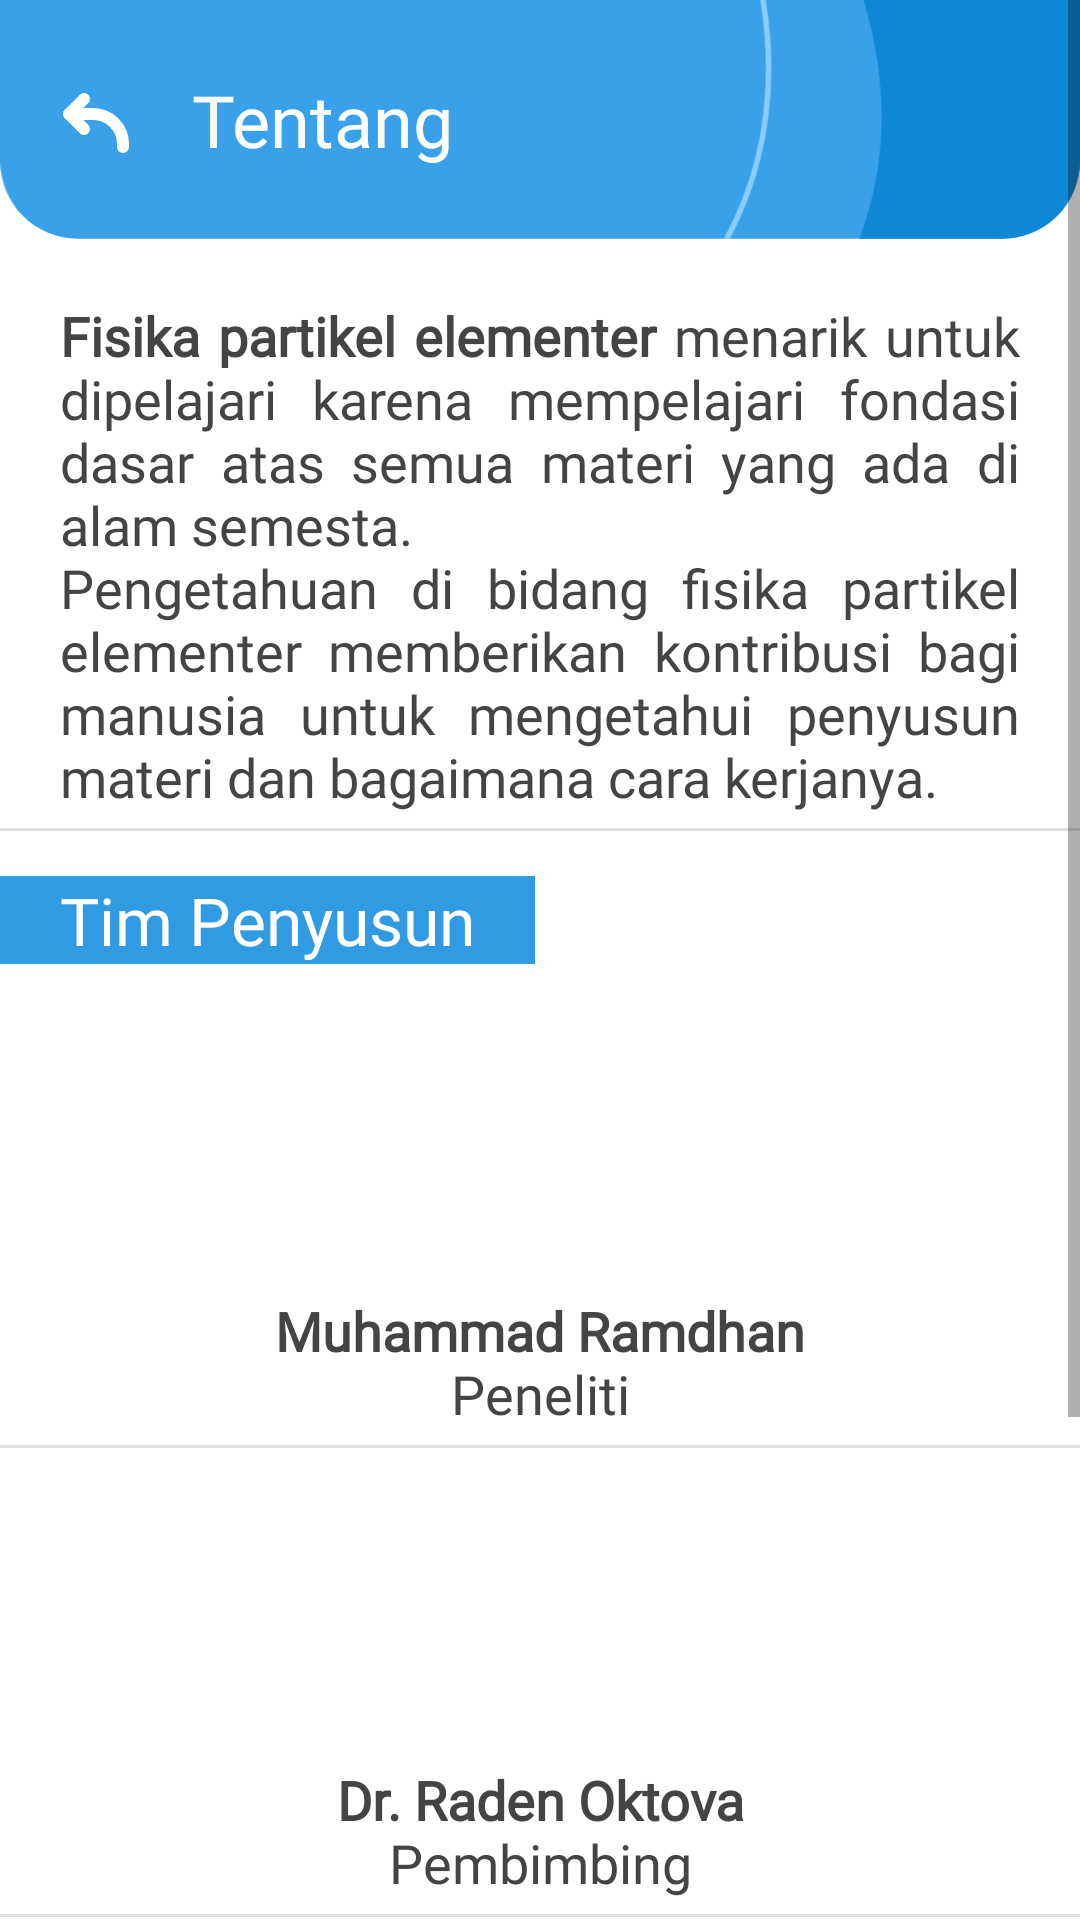

Icon click points for this 1080 x 1920 phone screenshot, format (x,y):
arrow back: (96,123)
